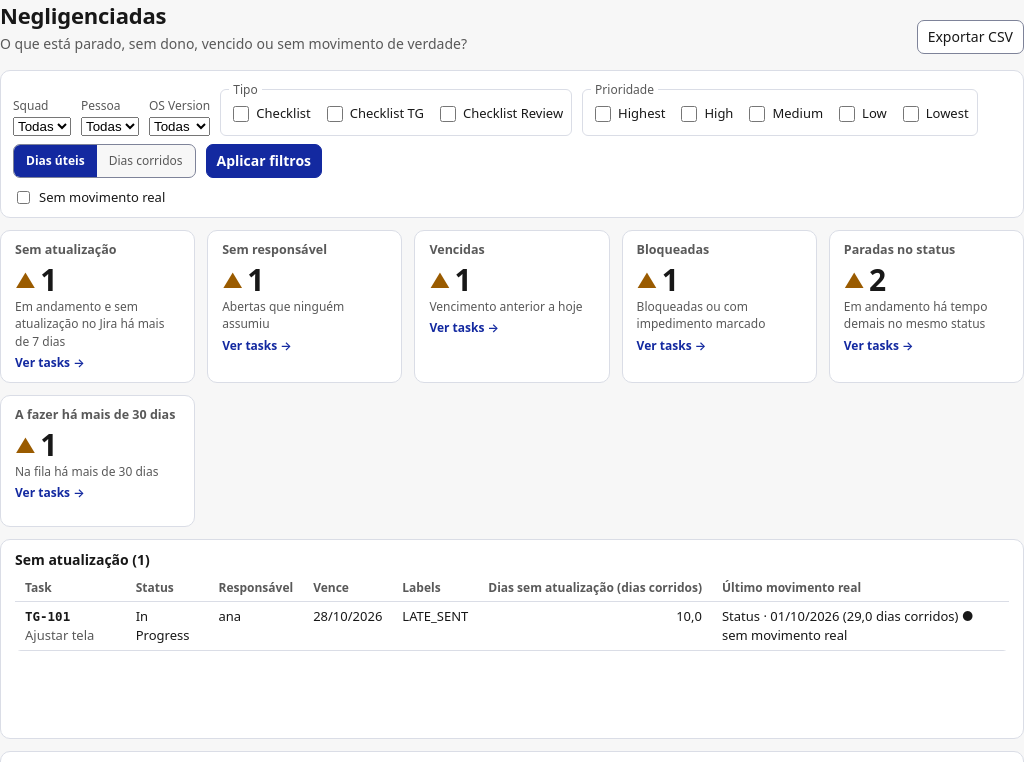
Test: tela Negligenciadas › kpiAbreGavetaComMesmoTamanho
Click the button named "Paradas no status" at {"x": 926, "y": 309}, box [844,263,1009,354]
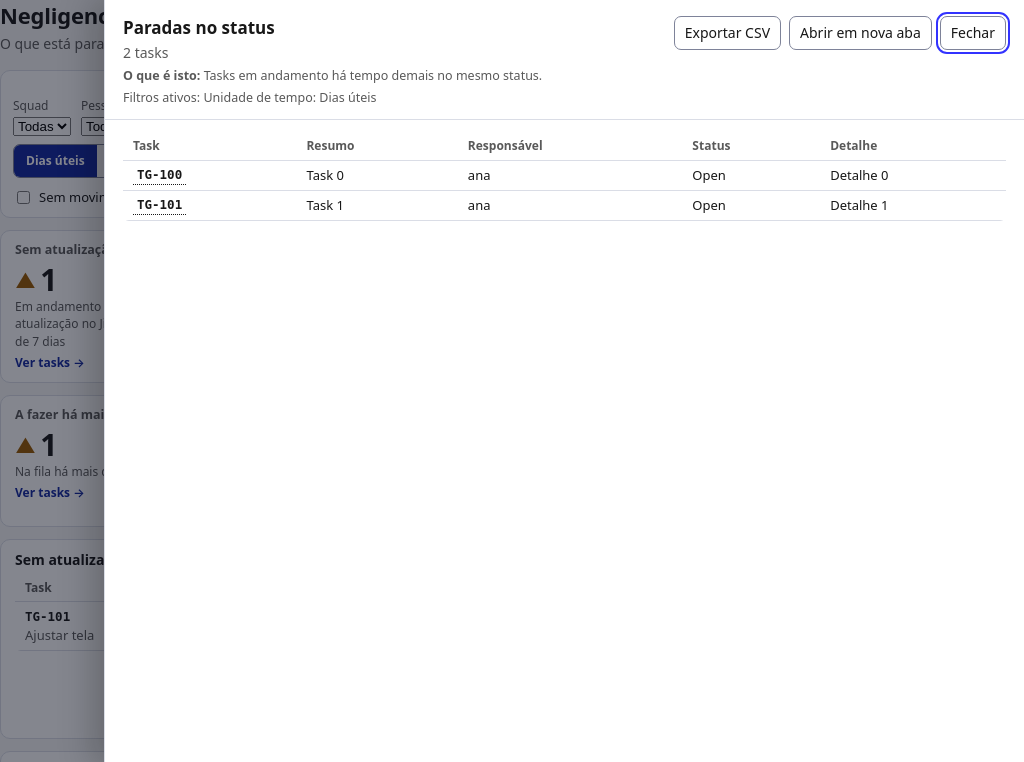
Expected: the text "2 tasks" is shown, [123,43,168,62]
